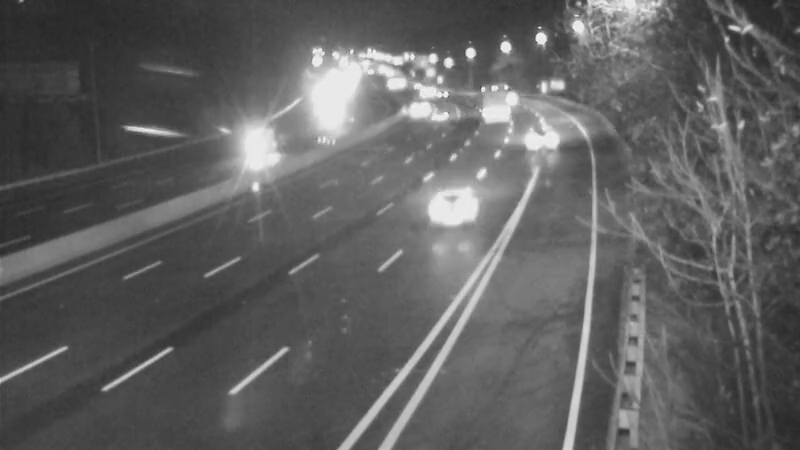vehicle: (417, 174, 497, 254), (405, 68, 455, 118), (465, 75, 515, 125), (418, 92, 468, 142), (388, 83, 438, 133), (511, 109, 561, 159), (226, 124, 276, 174), (306, 89, 356, 139)
